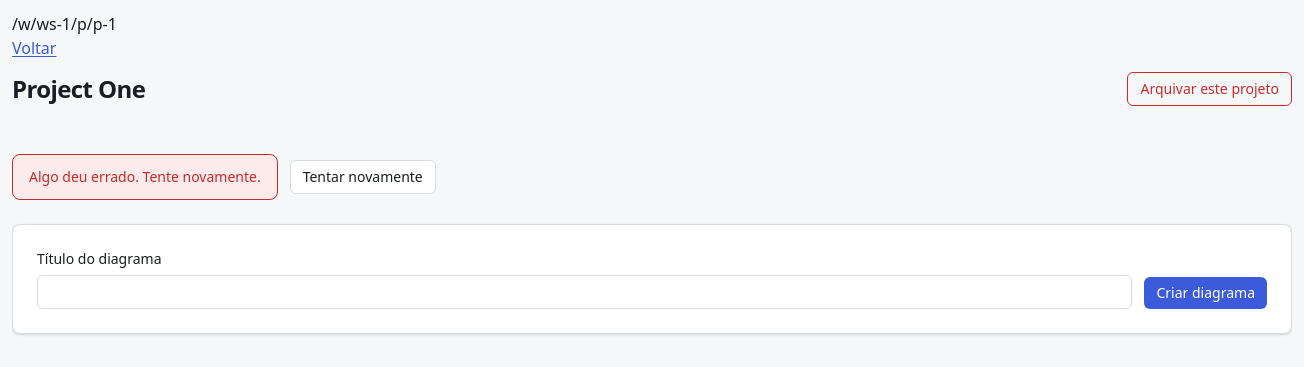
Test case: DiagramListPage — retry on load failure (LRA-01..03, LRA-05) › shows a retry button next to the error message when GET /diagrams fails, and it disappears once the retry succeeds (LRA-01..03)
Expected: the text "Algo deu errado. Tente novamente." is shown, [12, 154, 278, 200]
Step 1. Click the button "Tentar novamente" → x=363, y=177, box [290, 160, 436, 194]
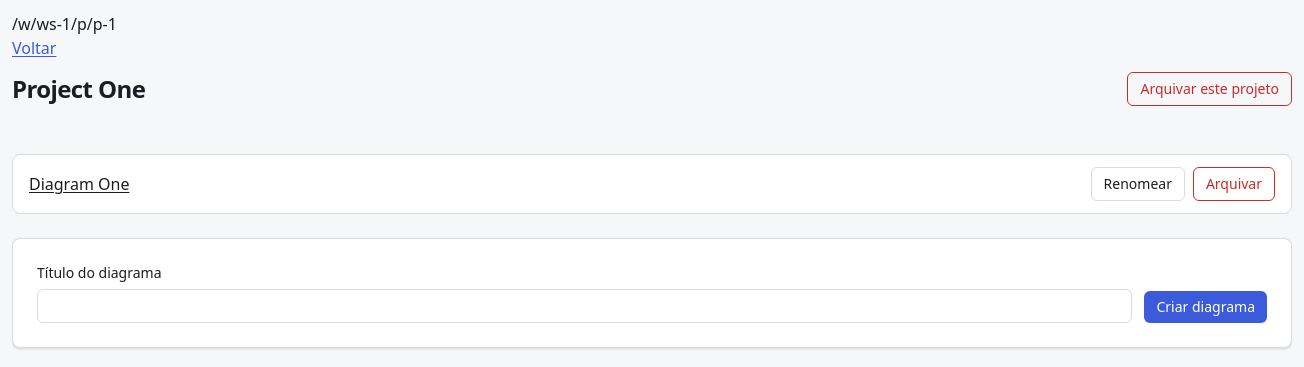
Now the link "Diagram One" is shown, box [29, 173, 129, 195]
Now the button "Tentar novamente" is gone
